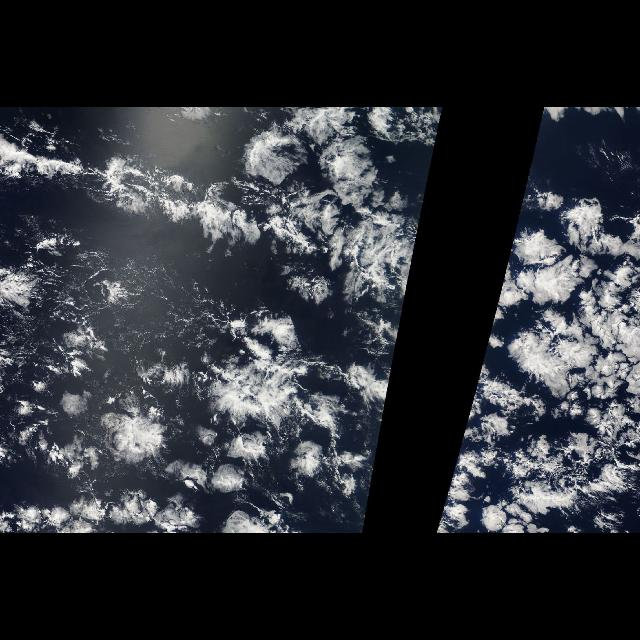Flower: (1, 125, 440, 533), (436, 126, 640, 530)
Sugar: (1, 256, 246, 342)
